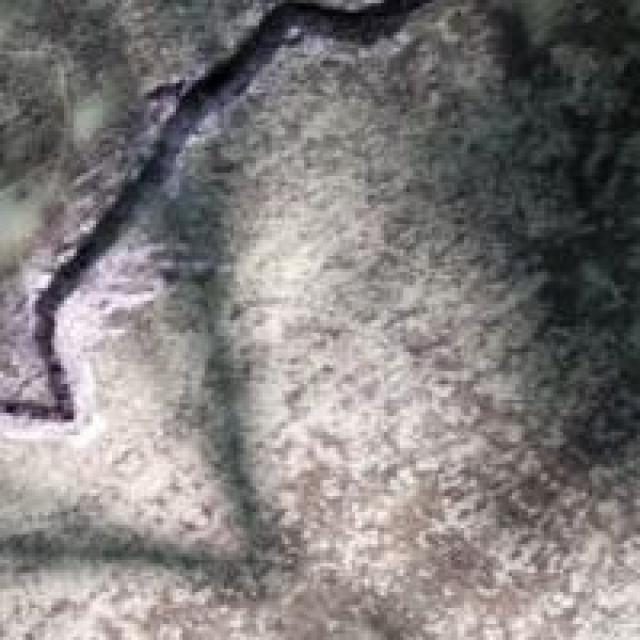crack: (3, 0, 422, 486)
